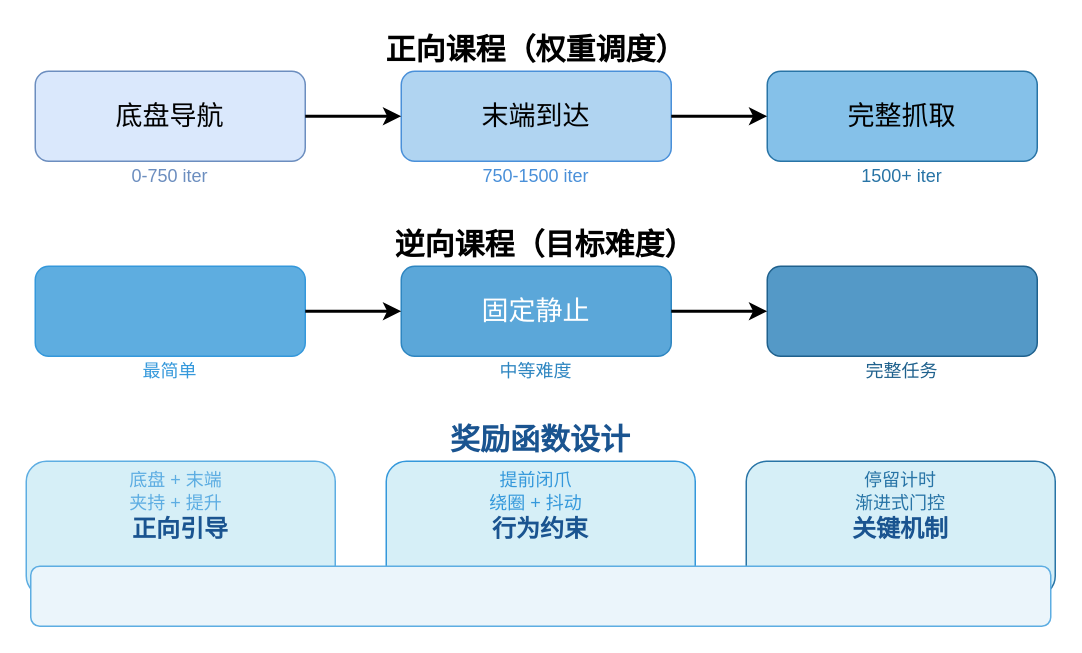
Image size: 1082x653. Some labels were removed from this diagram. Here are the shapes that lost their labels. From the top down, the centre of each, then its label:
the point at 169,310: 主动接近
the point at 901,310: 随机位置
the point at 540,595: 训练策略: 分阶段权重调度 + 逆向难度递增 + 稠密-稀疏奖励结合
